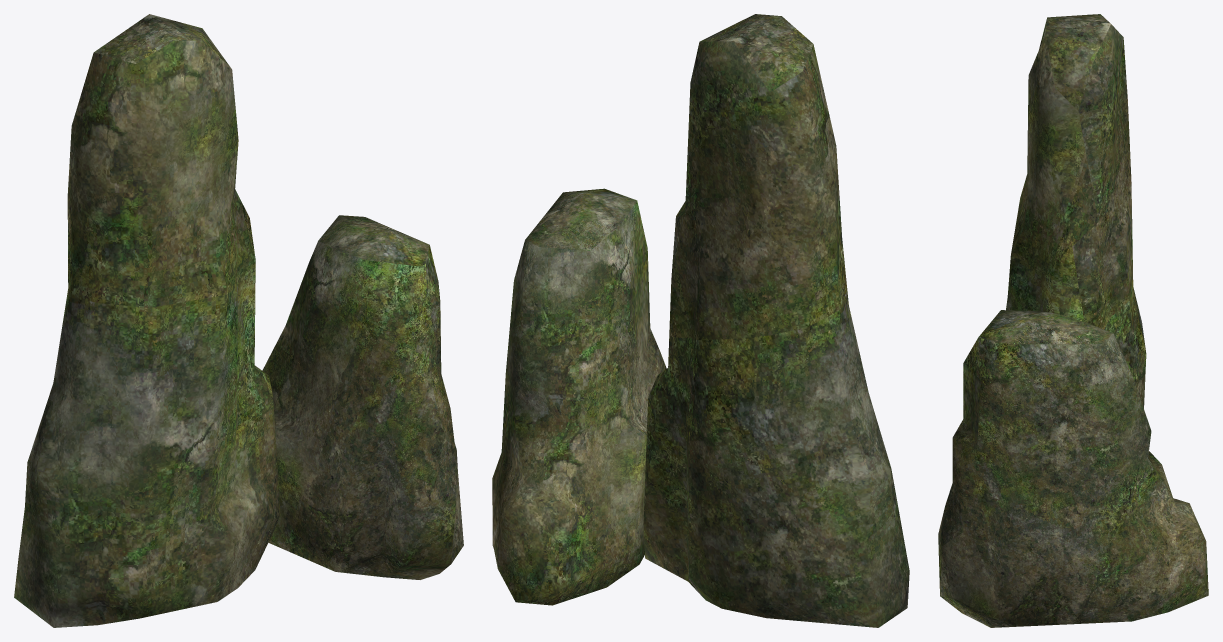
File: stone_010.FBX
The picture shows the model from 3 angles, left to right: view 1: azimuth 30°, elevation 25°; view 2: azimuth 150°, elevation 25°; view 3: azimuth 270°, elevation 25°; orthographic projection. The views are drawn at different scales.
Parts seen in each view (by area): view 1: stone_010_02; view 2: stone_010_02; view 3: stone_010_02.
Part boxes in pixels (x1,y1,x2,y2): stone_010_02: [14, 14, 463, 627]; stone_010_02: [492, 14, 909, 627]; stone_010_02: [938, 14, 1208, 627].
Size of the model in its own units: 3.36 by 4.63 by 2.24.
